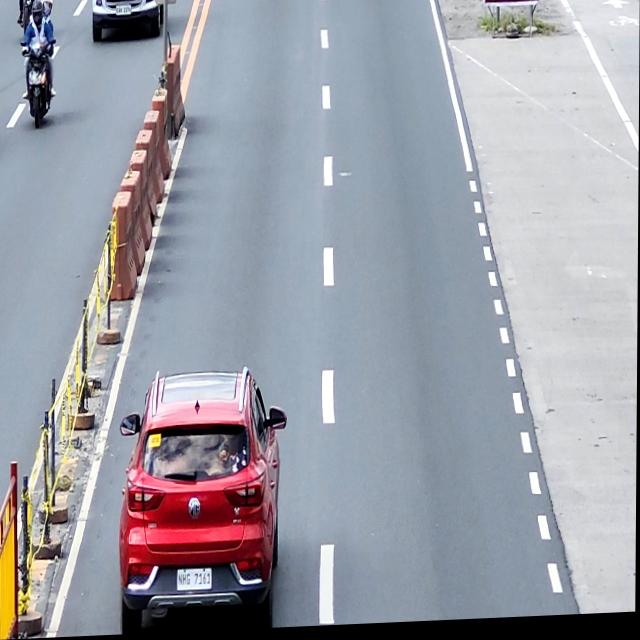Car: (118, 366, 288, 634), (91, 0, 162, 43)
License-Plate: (176, 566, 214, 594), (114, 4, 132, 19)
Motorcycle: (20, 38, 56, 129)
